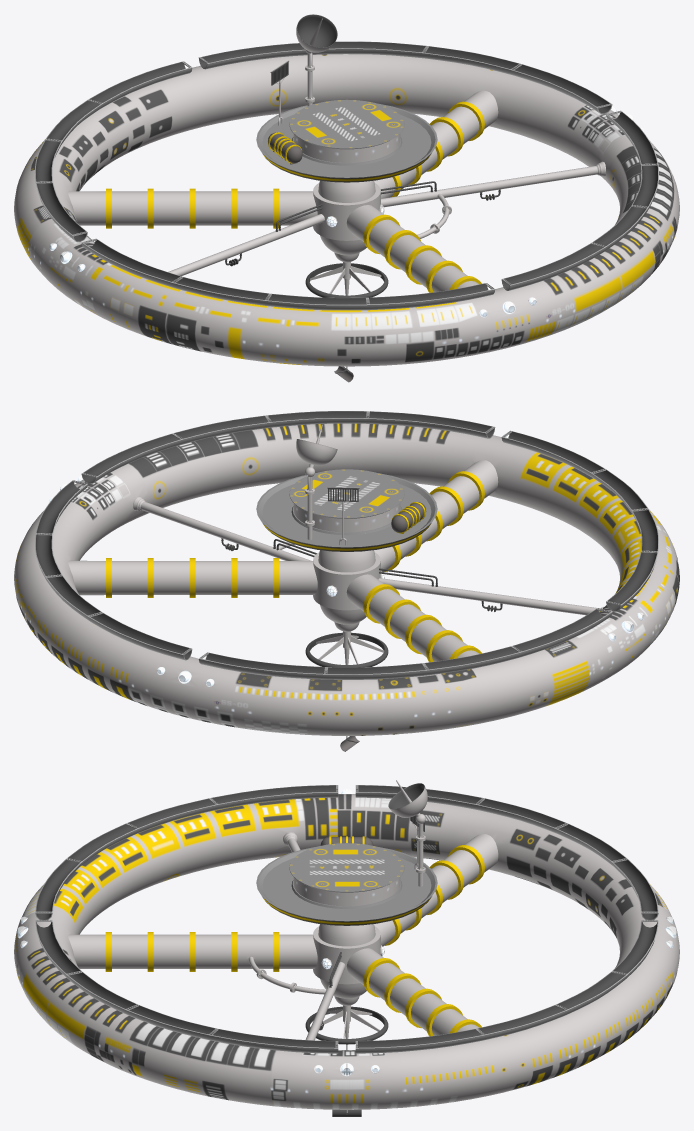
3 views of the same model, one above another, from view 1: azimuth 30°, elevation 25°; view 2: azimuth 150°, elevation 25°; view 3: azimuth 270°, elevation 25° (orthographic).
Parts seen in each view (by area): view 1: mainbody_low, solarpanels_low, landingpad_low, topsatellite_low, airtank_low, outerwindow_low; view 2: mainbody_low, solarpanels_low, landingpad_low, topsatellite_low, airtank_low, outerwindow_low, radarantenna_low; view 3: mainbody_low, solarpanels_low, landingpad_low, topsatellite_low, outerwindow_low.
Boxes of the visible parts, bbox=[...] form: mainbody_low: bbox=[14, 54, 679, 368]; solarpanels_low: bbox=[35, 41, 658, 310]; landingpad_low: bbox=[256, 99, 437, 182]; topsatellite_low: bbox=[296, 14, 337, 105]; airtank_low: bbox=[268, 132, 302, 164]; outerwindow_low: bbox=[49, 65, 644, 317]; mainbody_low: bbox=[14, 423, 679, 738]; solarpanels_low: bbox=[35, 411, 658, 679]; landingpad_low: bbox=[256, 469, 437, 551]; topsatellite_low: bbox=[296, 424, 337, 539]; airtank_low: bbox=[391, 502, 426, 533]; outerwindow_low: bbox=[49, 435, 644, 686]; radarantenna_low: bbox=[327, 487, 359, 545]; mainbody_low: bbox=[14, 794, 679, 1112]; solarpanels_low: bbox=[35, 785, 658, 1053]; landingpad_low: bbox=[256, 843, 437, 925]; topsatellite_low: bbox=[388, 780, 427, 886]; outerwindow_low: bbox=[17, 789, 676, 1076].
Size of the model in its own units: 3270 by 1837 by 3270.
Materials: 1 (1 with a texture image).
